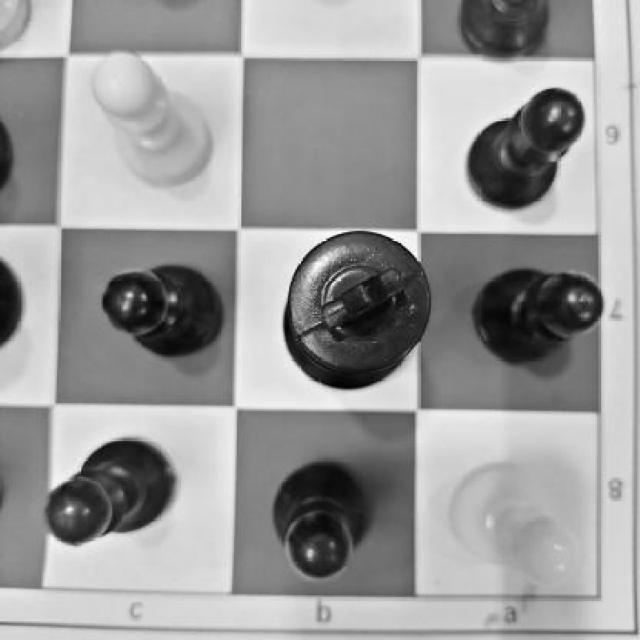black-king: (267, 221, 441, 397)
black-pawn: (440, 452, 591, 594), (36, 420, 176, 554), (461, 75, 592, 216), (464, 250, 610, 370), (254, 452, 384, 586), (93, 254, 230, 368)
white-pawn: (78, 36, 228, 202)
